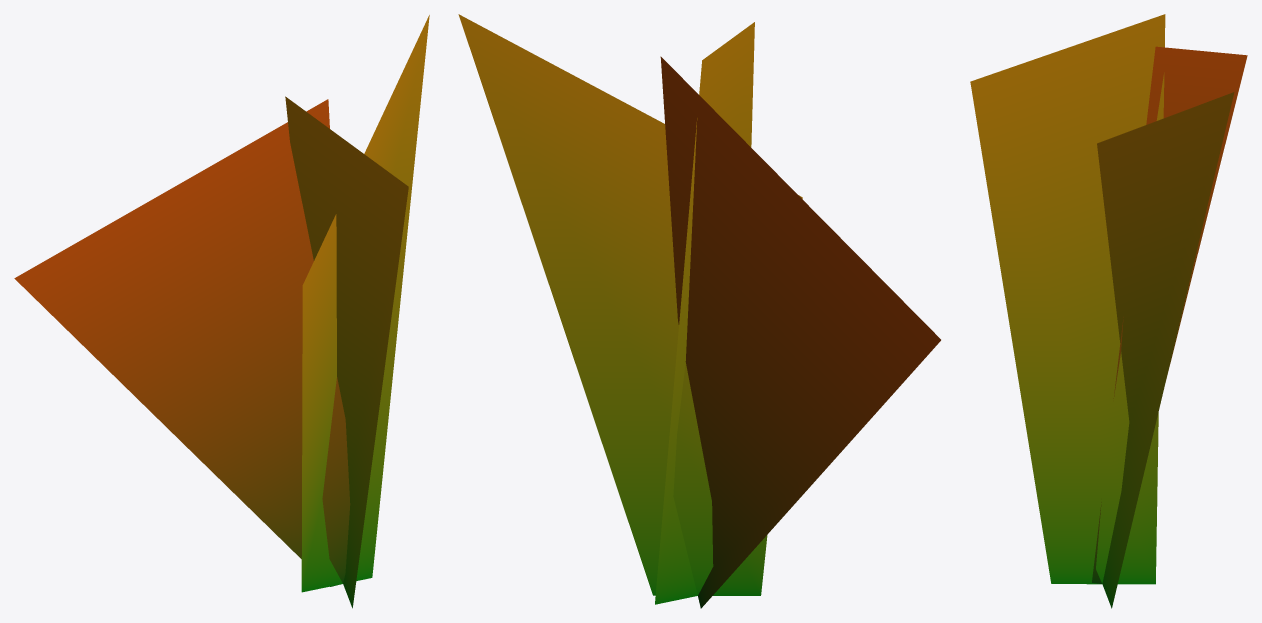
The model's file is Ocean Seaweed_LOD2_Var1_sdDkn.fbx.
The picture shows the model from 3 angles, left to right: view 1: azimuth 30°, elevation 25°; view 2: azimuth 150°, elevation 25°; view 3: azimuth 270°, elevation 25°; orthographic projection. The views are drawn at different scales.
Visible parts, largest first — view 1: _8b3f_Var1_LOD2; view 2: _8b3f_Var1_LOD2; view 3: _8b3f_Var1_LOD2.
Boxes of the visible parts, left/top/right/bottom form: _8b3f_Var1_LOD2: left=14, top=15, right=429, bottom=608; _8b3f_Var1_LOD2: left=458, top=14, right=940, bottom=608; _8b3f_Var1_LOD2: left=970, top=14, right=1247, bottom=608.
Bounding box in the file's own units: 30.3 × 35.27 × 15.27.
